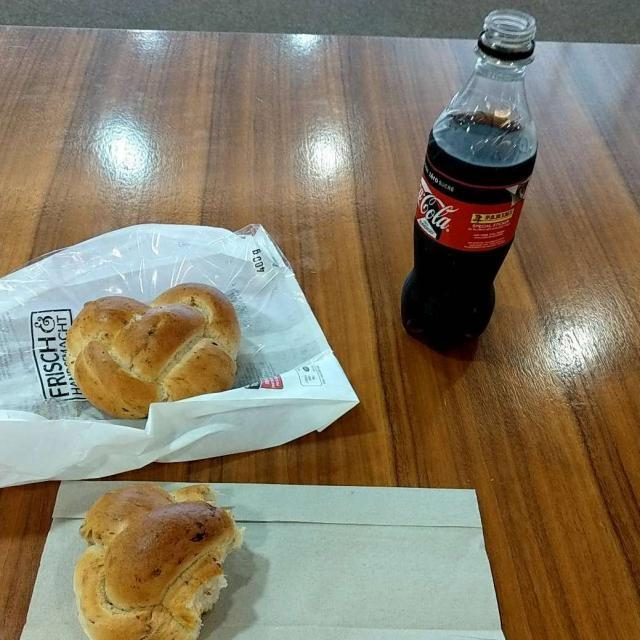bread: (58, 280, 242, 634)
coca-cola: (407, 102, 537, 345)
